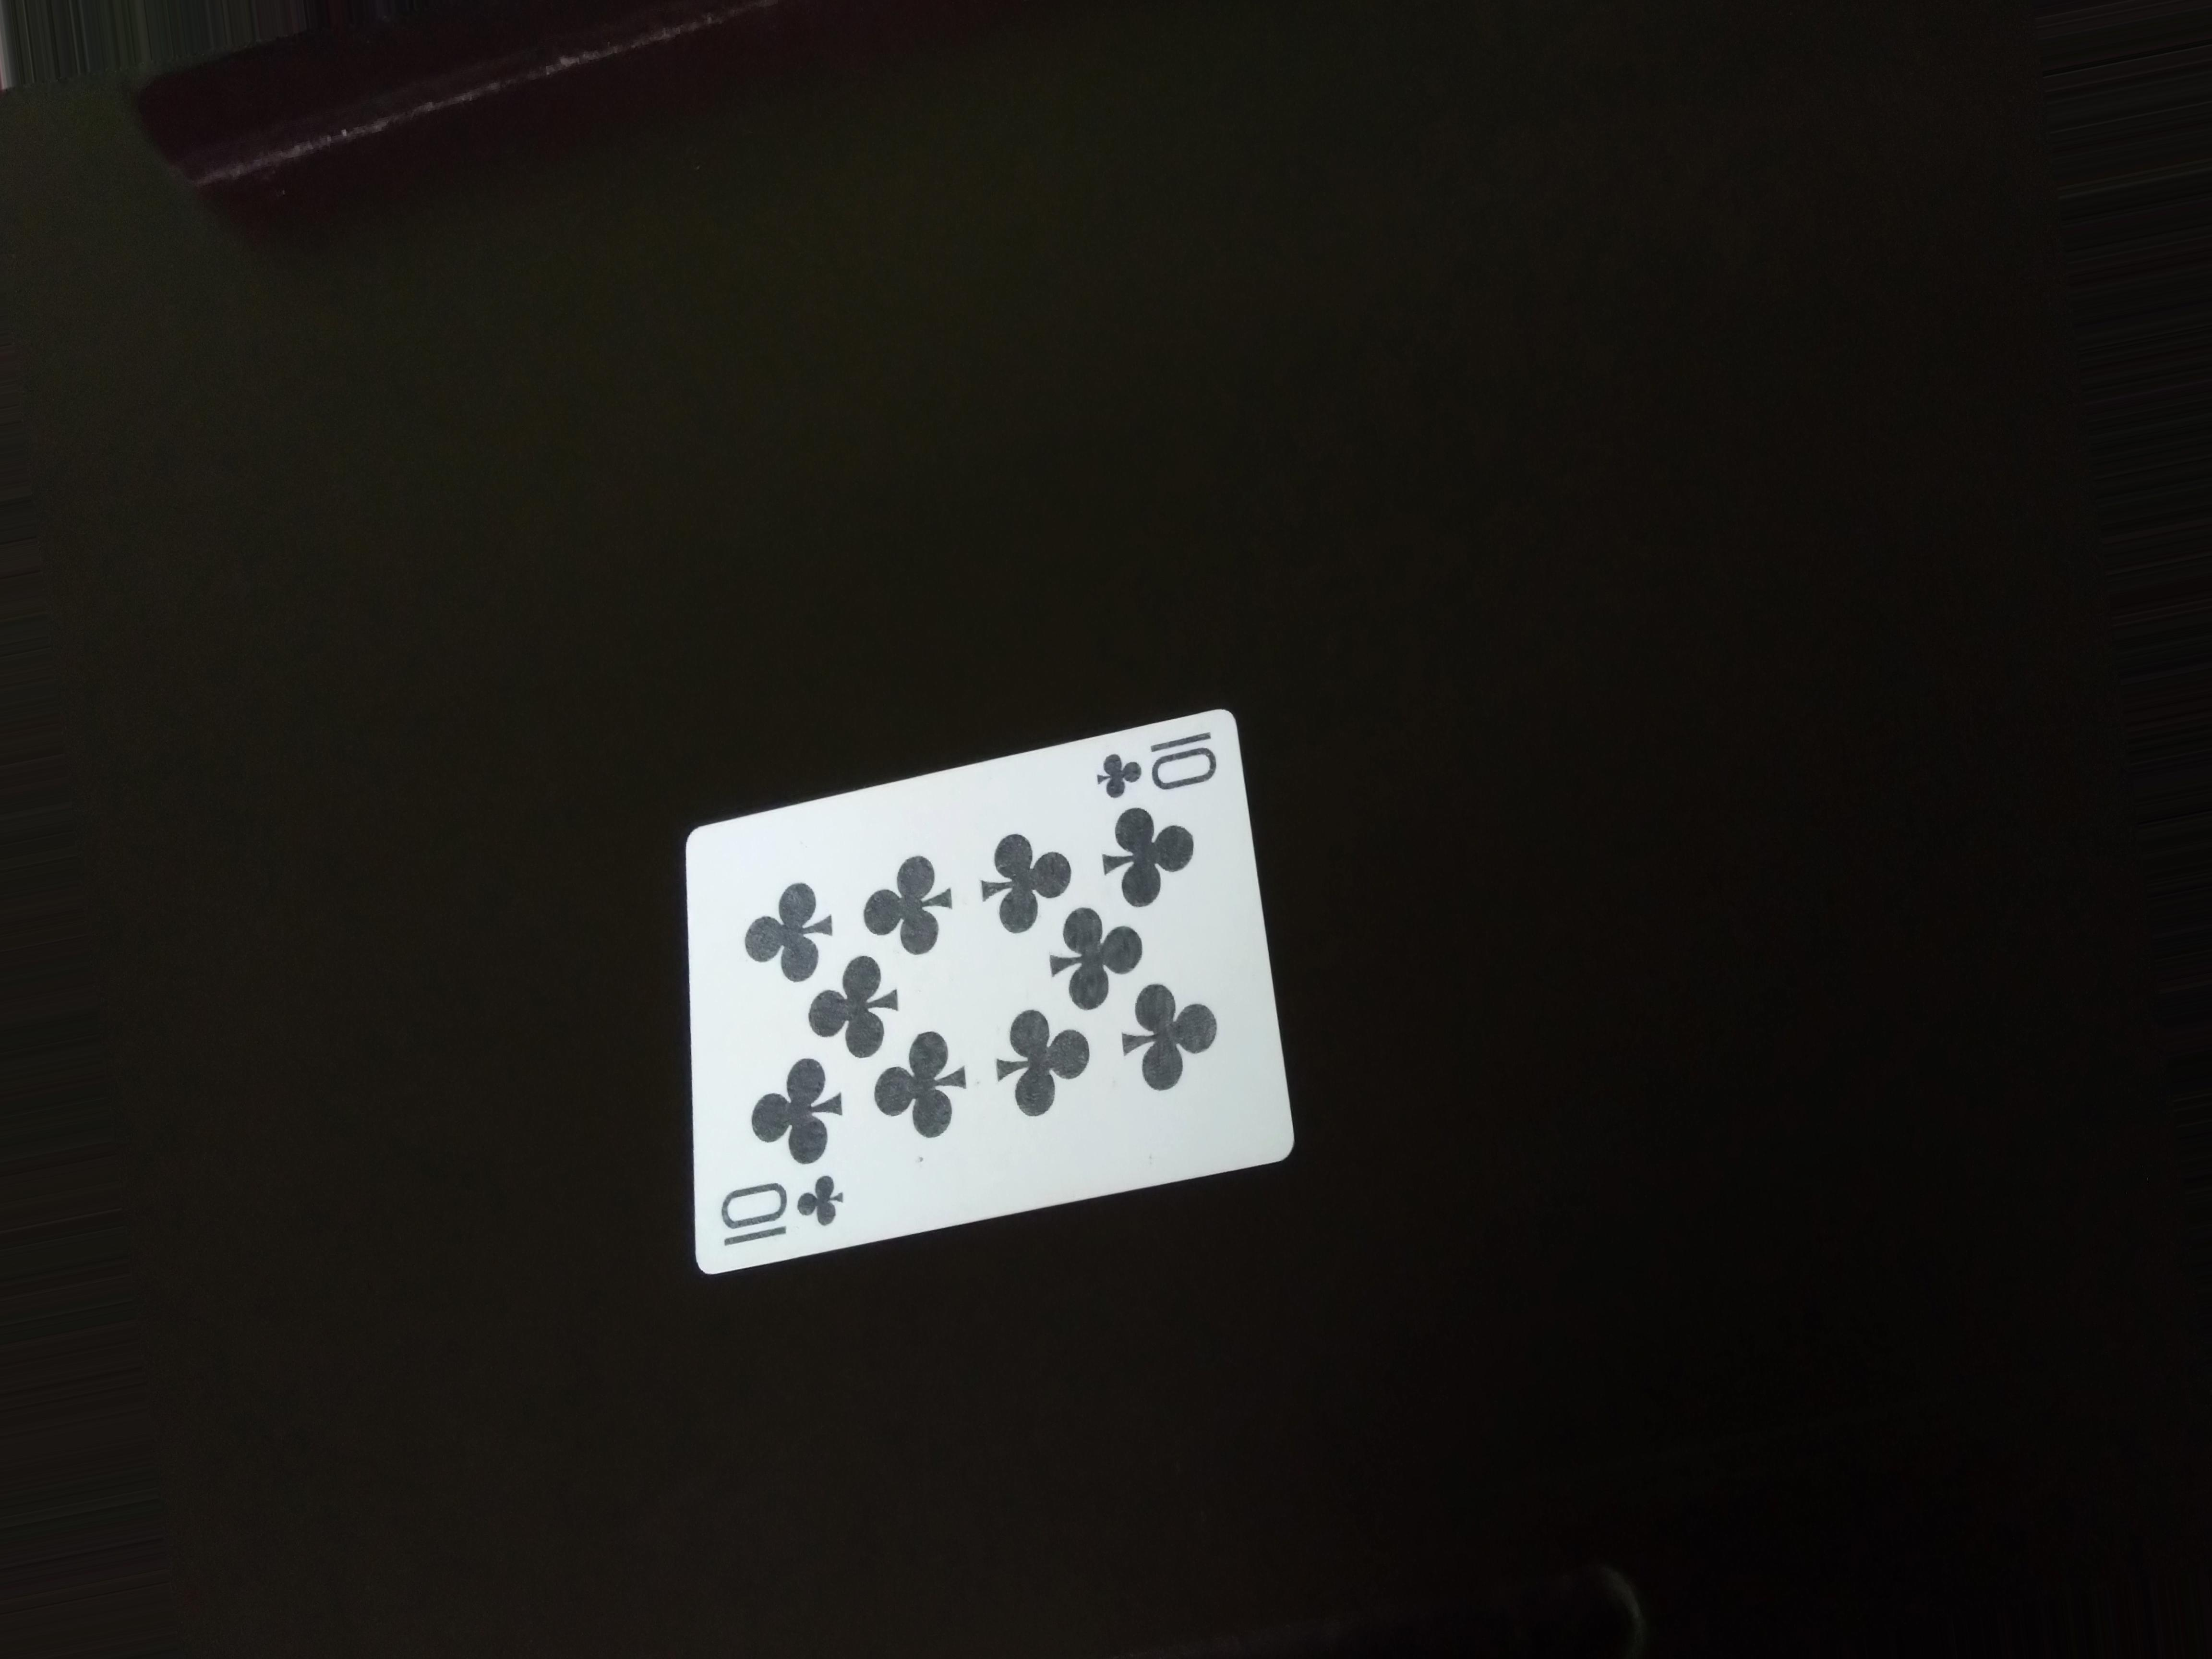10C: (1083, 723, 1238, 800)
